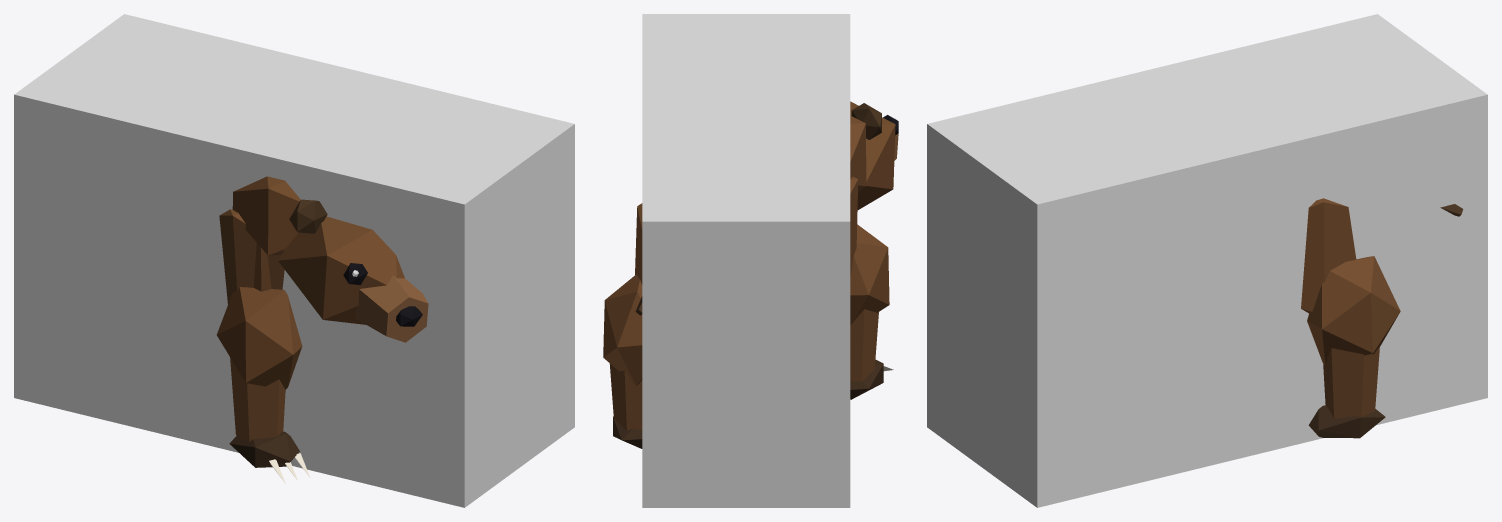
The model's file is plains_brown_bear.fbx.
3 renders of one model, left to right at view 1: azimuth 30°, elevation 25°; view 2: azimuth 150°, elevation 25°; view 3: azimuth 270°, elevation 25°, orthographic. The views are drawn at different scales.
Visible parts, largest first — view 1: Root__0.00_3.00_-0.56__3.95_6.00_9.32, Head__Body__0.00_4.00_-1.68, LegFR__Body__1.17_2.37_-1.86, Body__Root__0.00_3.67_0.00; view 2: Root__0.00_3.00_-0.56__3.95_6.00_9.32, LegBL__Body__-1.17_2.37_2.03, LegFR__Body__1.17_2.37_-1.86, Head__Body__0.00_4.00_-1.68, Body__Root__0.00_3.67_0.00; view 3: Root__0.00_3.00_-0.56__3.95_6.00_9.32, LegBL__Body__-1.17_2.37_2.03, Body__Root__0.00_3.67_0.00.
Part boxes in pixels (x1=…): Root__0.00_3.00_-0.56__3.95_6.00_9.32: x1=14, y1=14, x2=574, y2=507; Head__Body__0.00_4.00_-1.68: x1=278, y1=199, x2=428, y2=342; LegFR__Body__1.17_2.37_-1.86: x1=216, y1=287, x2=310, y2=483; Body__Root__0.00_3.67_0.00: x1=219, y1=176, x2=300, y2=304; Root__0.00_3.00_-0.56__3.95_6.00_9.32: x1=642, y1=14, x2=850, y2=507; LegBL__Body__-1.17_2.37_2.03: x1=603, y1=274, x2=642, y2=448; LegFR__Body__1.17_2.37_-1.86: x1=850, y1=224, x2=893, y2=399; Head__Body__0.00_4.00_-1.68: x1=850, y1=101, x2=898, y2=209; Body__Root__0.00_3.67_0.00: x1=635, y1=115, x2=866, y2=284; Root__0.00_3.00_-0.56__3.95_6.00_9.32: x1=927, y1=14, x2=1487, y2=507; LegBL__Body__-1.17_2.37_2.03: x1=1307, y1=256, x2=1400, y2=438; Body__Root__0.00_3.67_0.00: x1=1301, y1=198, x2=1356, y2=313.
Bounding box in the file's own units: 226 × 168 × 281.
Materials: 1 (1 with a texture image).
